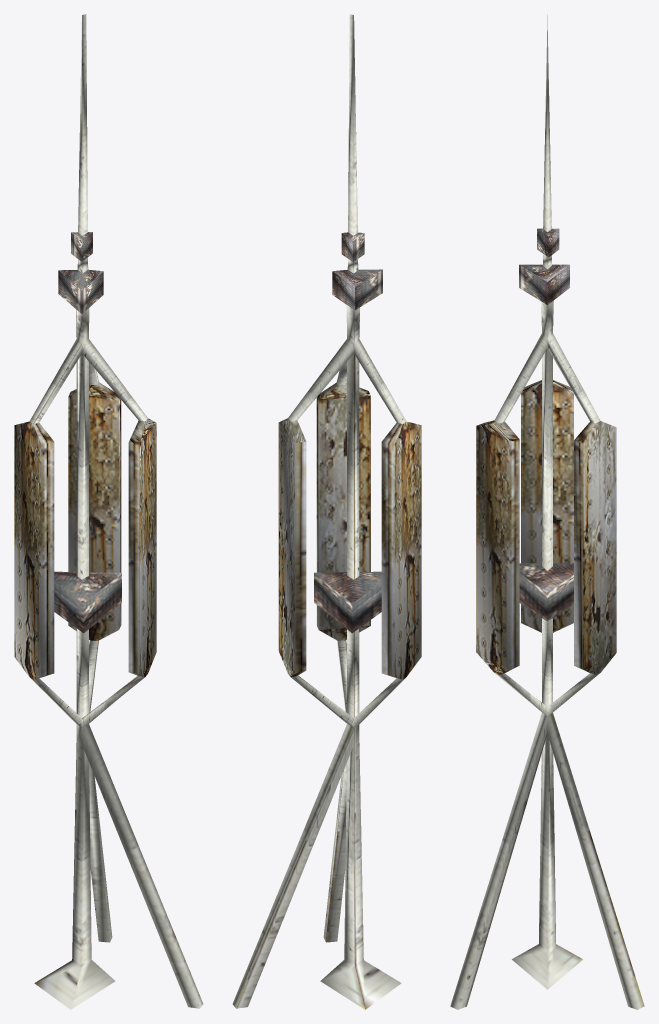
The model's file is Roof_Antenne.fbx.
3 renders of one model, left to right at view 1: azimuth 30°, elevation 25°; view 2: azimuth 150°, elevation 25°; view 3: azimuth 270°, elevation 25°, orthographic.
Parts seen in each view (by area): view 1: Roof_Antenne; view 2: Roof_Antenne; view 3: Roof_Antenne.
Boxes of the visible parts, left/top/right/bottom form: Roof_Antenne: left=14, top=14, right=203, bottom=1009; Roof_Antenne: left=232, top=14, right=421, bottom=1009; Roof_Antenne: left=450, top=14, right=644, bottom=1009.
Bounding box in the file's own units: 48.94 × 350 × 64.36.
